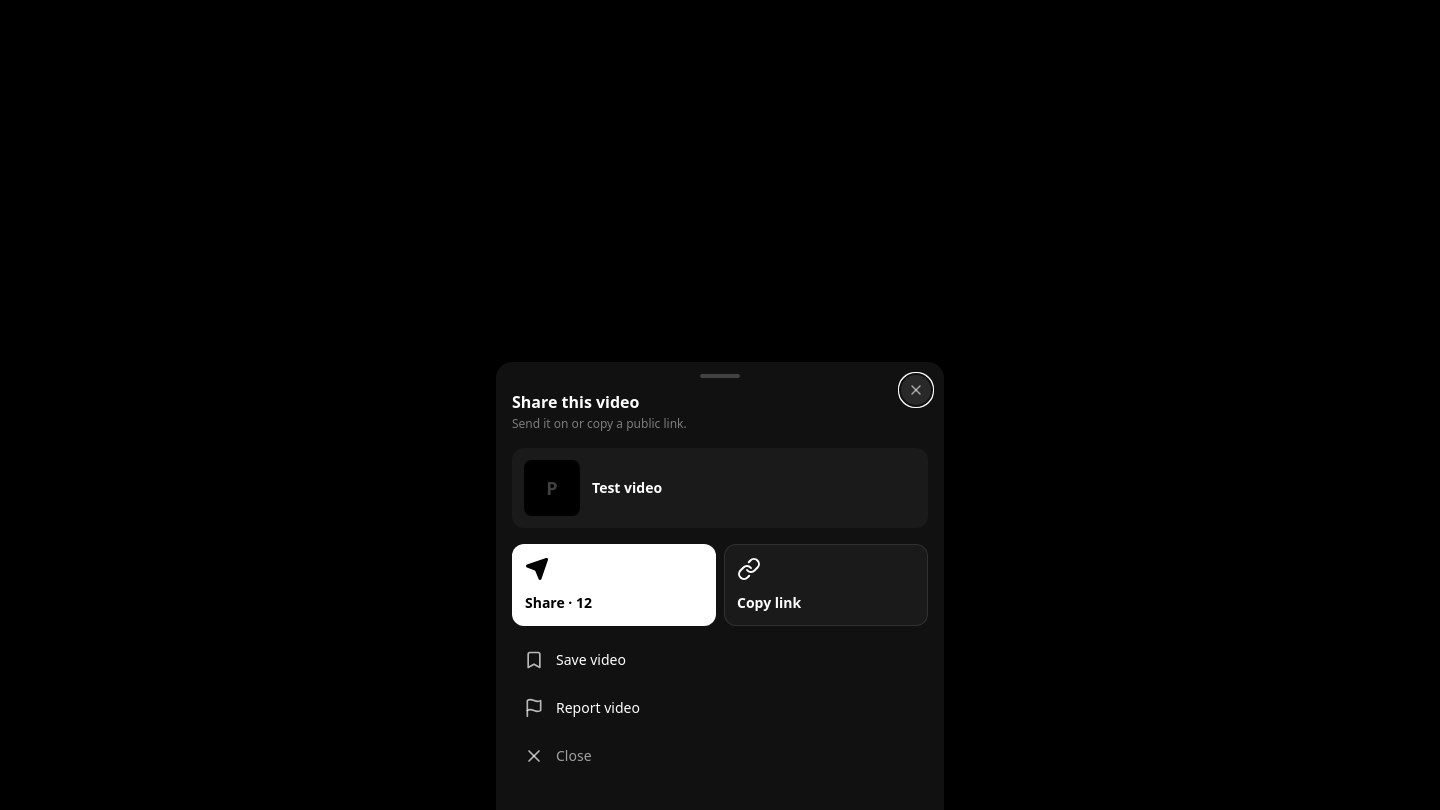
VideoOptionsSheet report flow › can go back from the reason list without reporting
Click the button "Report video". click: (598, 708)
box: [512, 686, 928, 730]
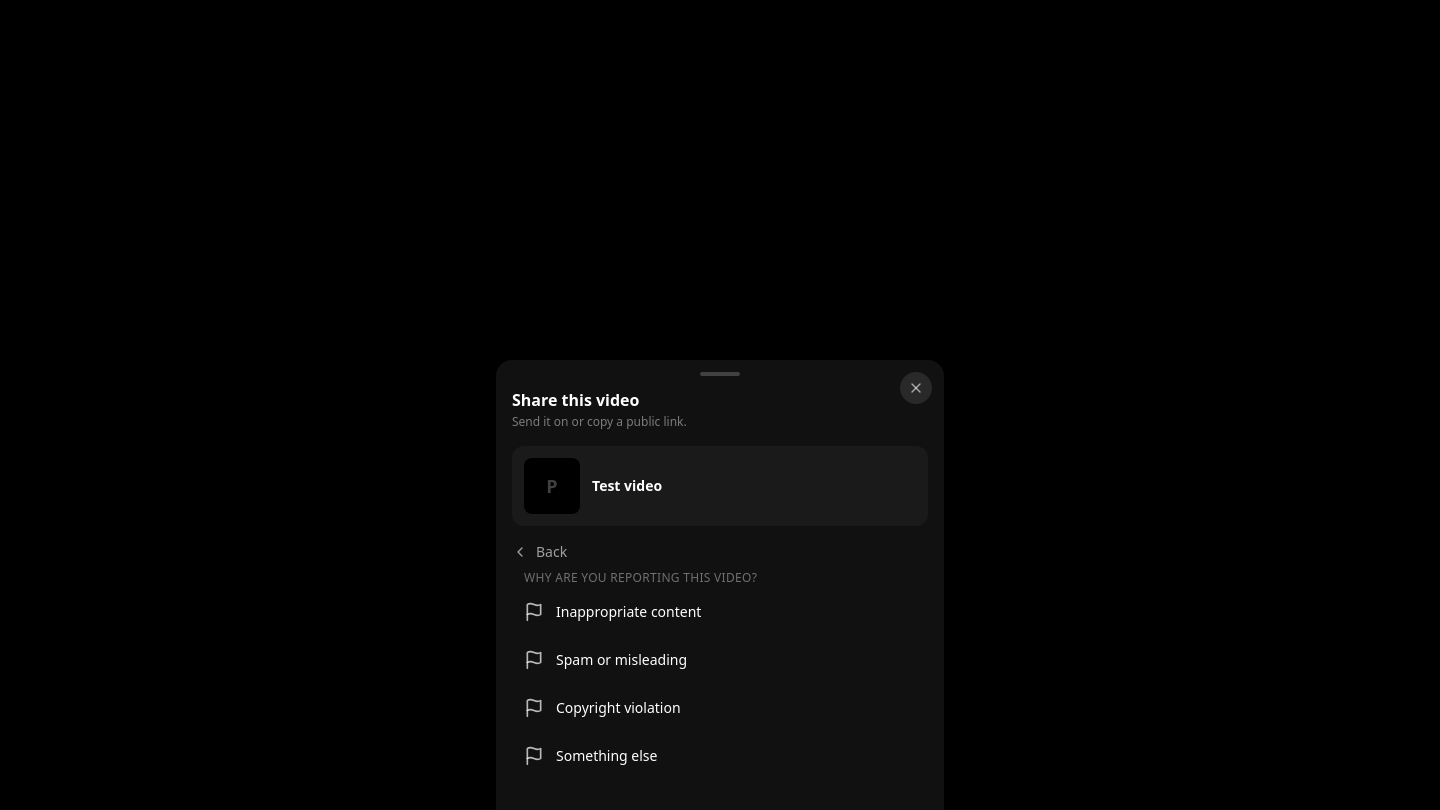
Click the button "Back". click: (540, 552)
box: [512, 542, 567, 562]
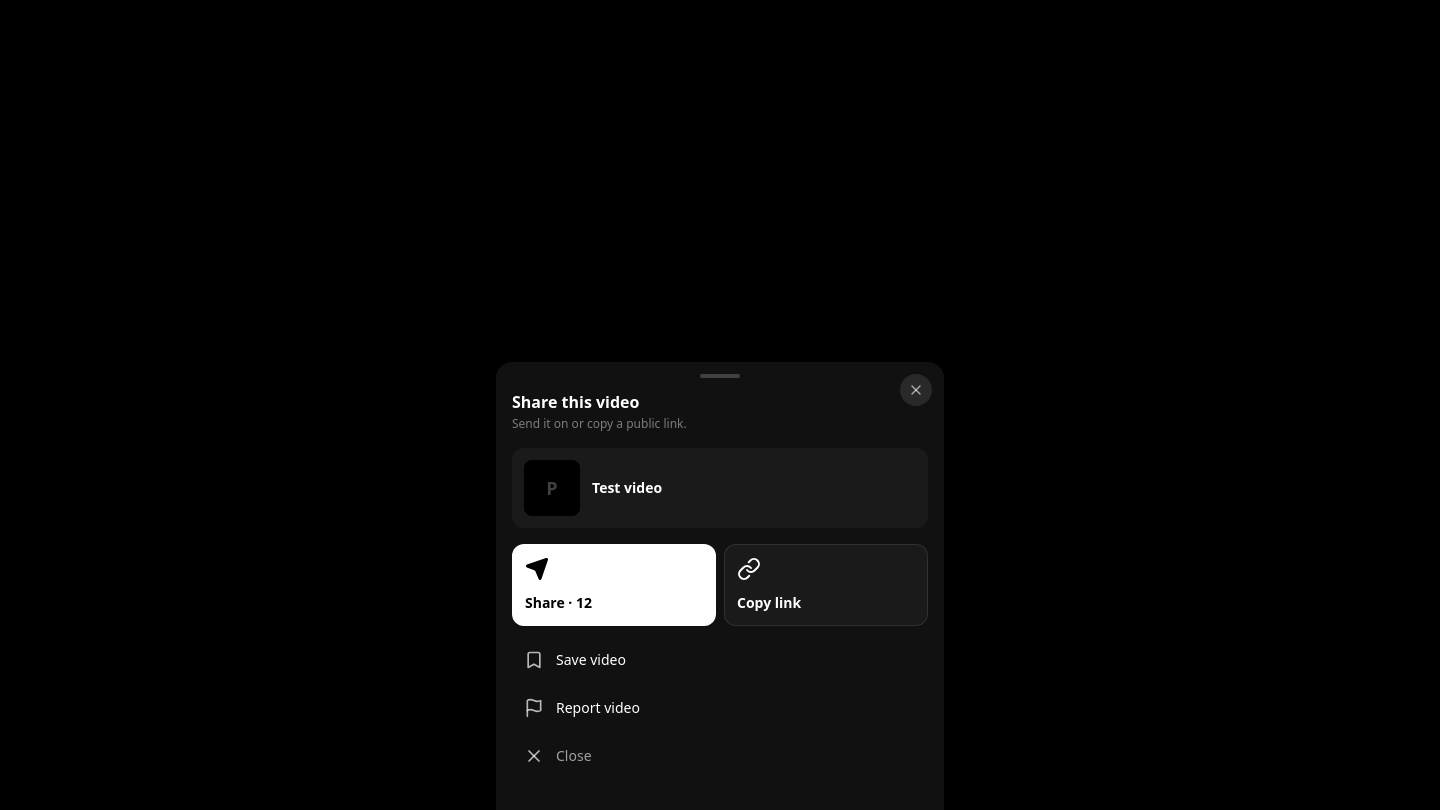
Now the text "Report video" is shown, box [556, 698, 640, 718]
